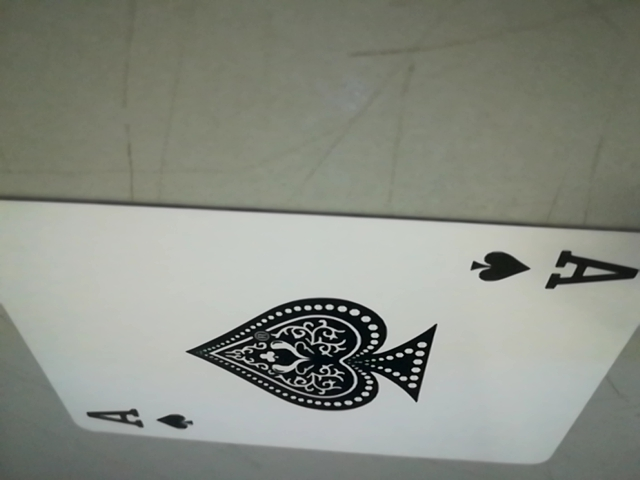ht a: (458, 244, 636, 294)
